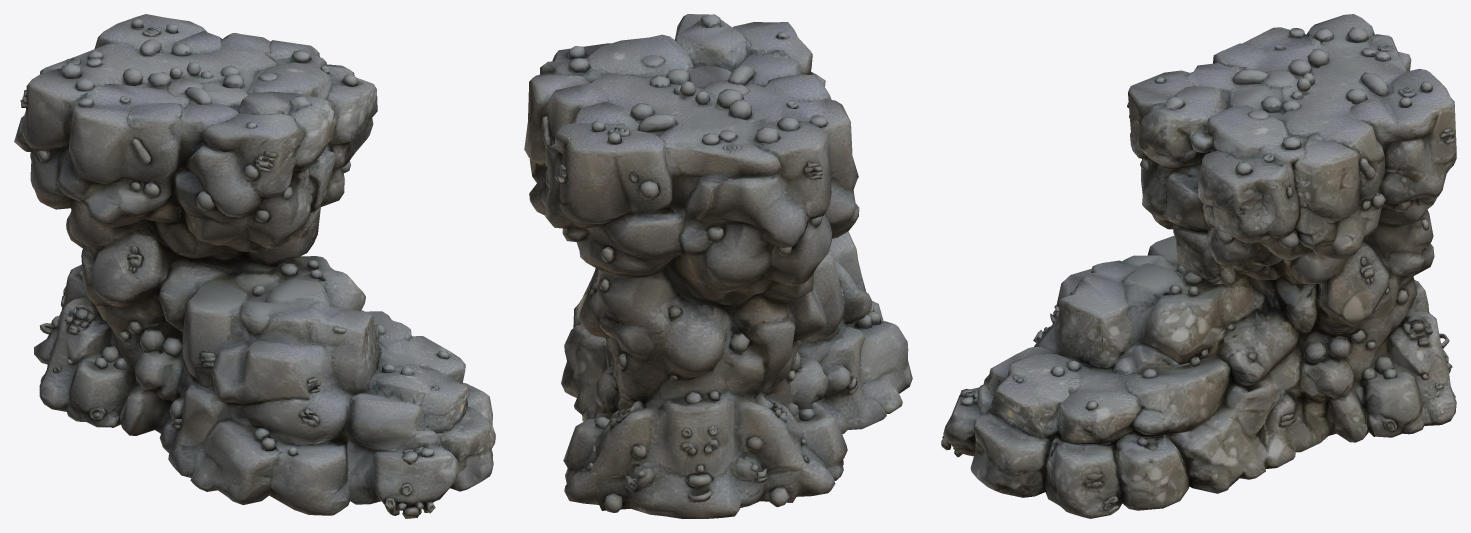
File: VAL_Capital_Environment_Cliff_C.glb
The picture shows the model from 3 angles, left to right: view 1: azimuth 30°, elevation 25°; view 2: azimuth 150°, elevation 25°; view 3: azimuth 270°, elevation 25°; orthographic projection. The views are drawn at different scales.
Parts seen in each view (by area): view 1: tripo_node_a686afe6-e79b-4d7c-908b-161728badc2c; view 2: tripo_node_a686afe6-e79b-4d7c-908b-161728badc2c; view 3: tripo_node_a686afe6-e79b-4d7c-908b-161728badc2c.
Part boxes in pixels (x1,y1,x2,y2): tripo_node_a686afe6-e79b-4d7c-908b-161728badc2c: [14, 14, 495, 518]; tripo_node_a686afe6-e79b-4d7c-908b-161728badc2c: [524, 14, 912, 518]; tripo_node_a686afe6-e79b-4d7c-908b-161728badc2c: [941, 14, 1456, 518].
Bounding box in the file's own units: 0.7637 × 0.752 × 0.998.
1 material, 1 textured.
